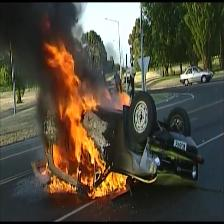fire: (48, 47, 98, 188)
smoke: (3, 3, 79, 44)
